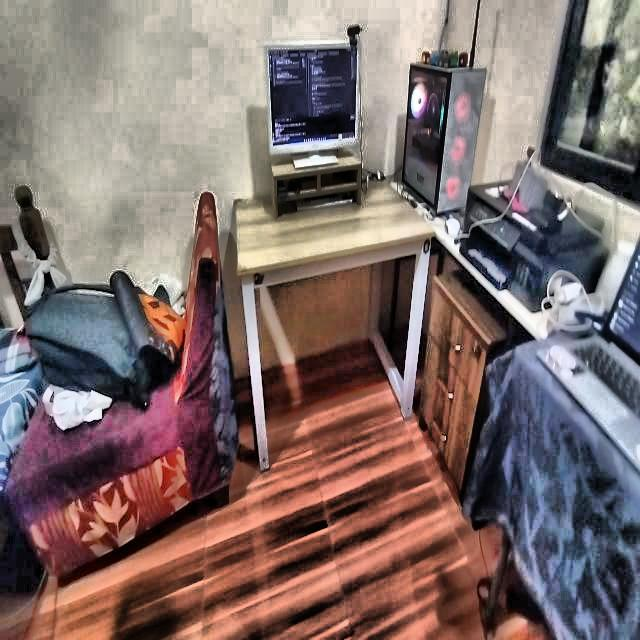mesa: (230, 166, 437, 484)
